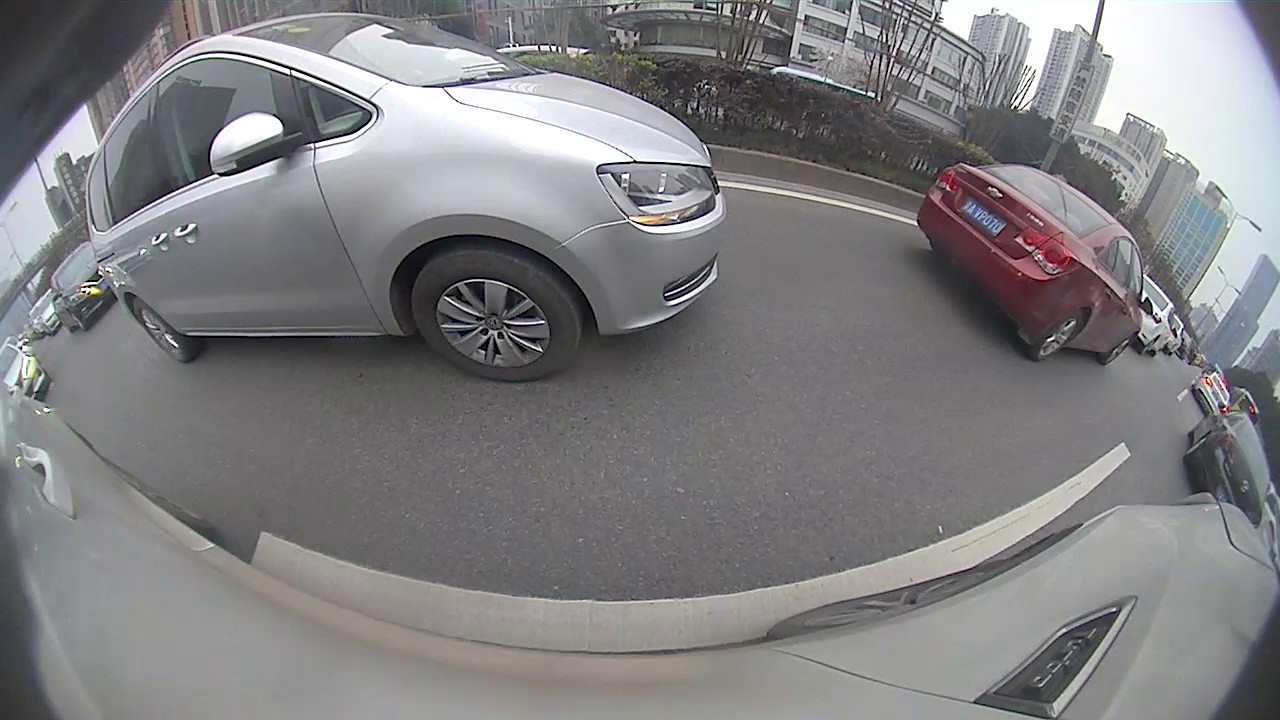car: (83, 10, 726, 383), (916, 161, 1154, 365), (1182, 404, 1270, 528), (48, 242, 115, 335), (1192, 370, 1231, 418)
front: (412, 249, 583, 383)
rear: (131, 297, 193, 367), (1026, 306, 1093, 360)
